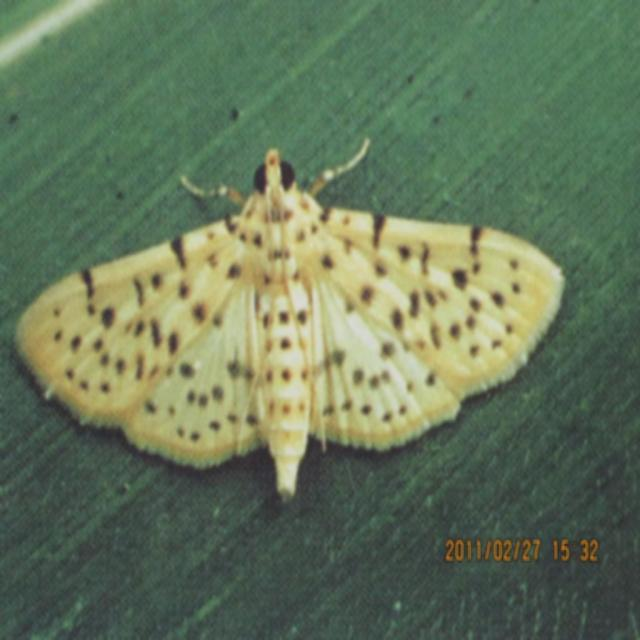peach borer: (13, 135, 570, 517)
